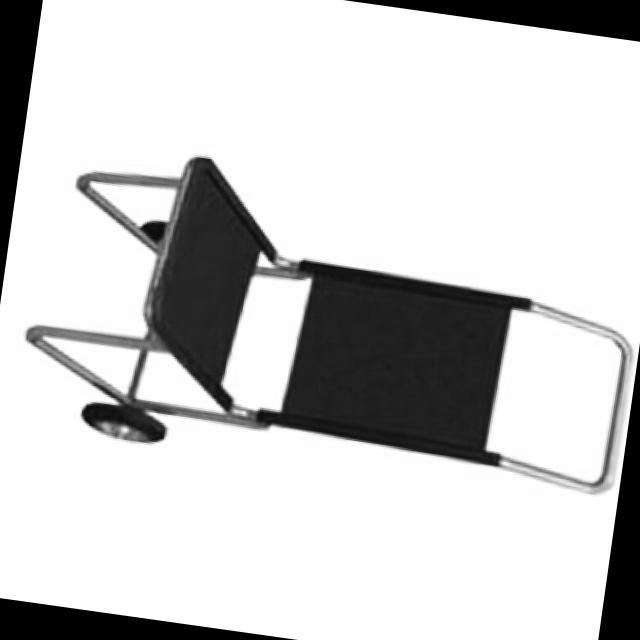chair: (9, 133, 640, 510)
